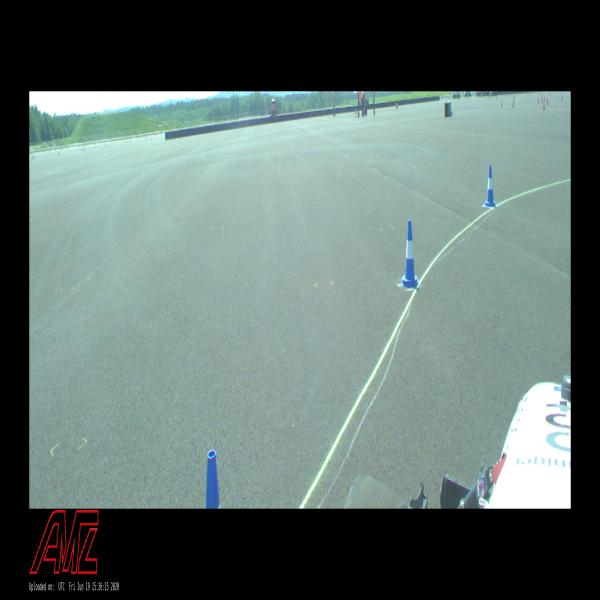blue_cone: (400, 220, 419, 289), (206, 449, 220, 509), (484, 165, 496, 207)
unknown_cone: (543, 101, 545, 110), (512, 101, 514, 108)
